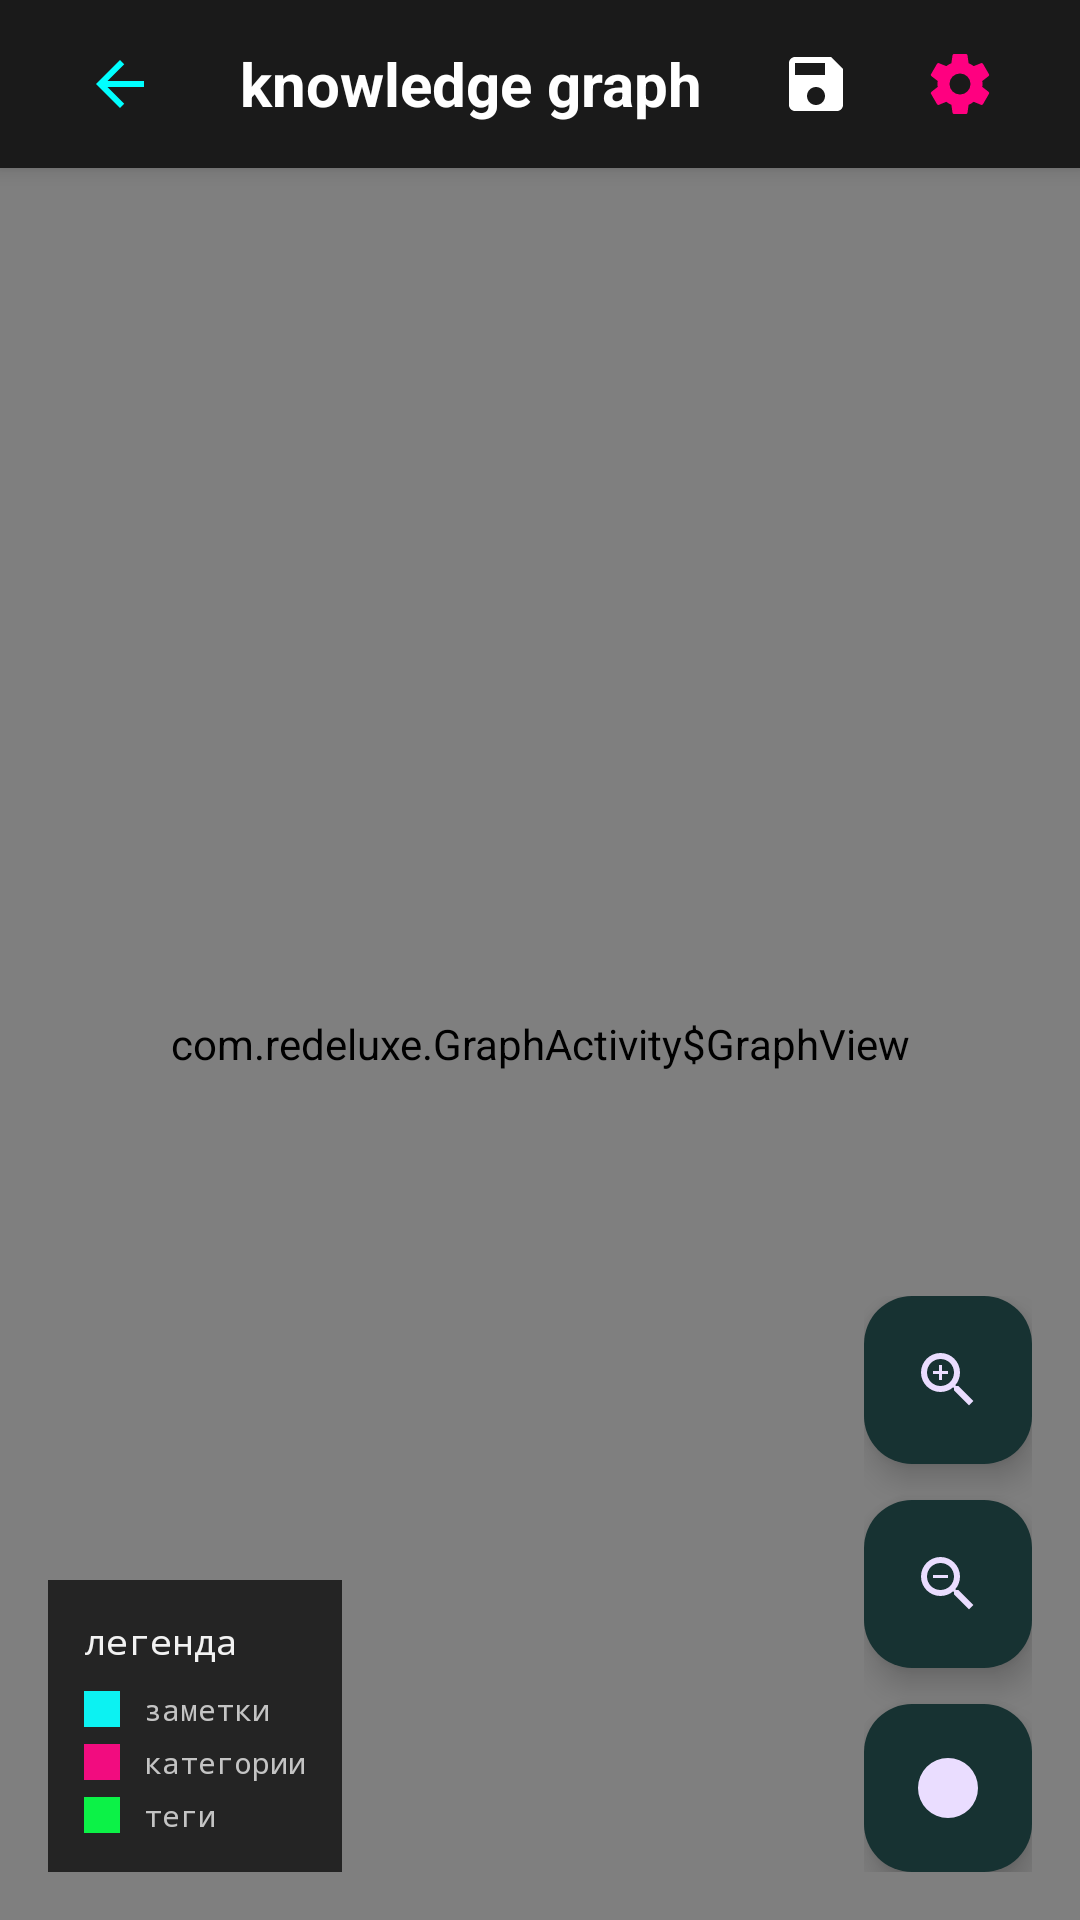

Locate icon controls on the screen. Image size 1080 × 1920, boxes as bbox=(x1, y1, x2, y2).
center: bbox=(864, 1704, 1032, 1872)
zoom in: bbox=(864, 1296, 1032, 1464)
zoom out: bbox=(864, 1500, 1032, 1668)
назад: bbox=(96, 60, 144, 108)
сохранить граф: bbox=(789, 57, 843, 111)
